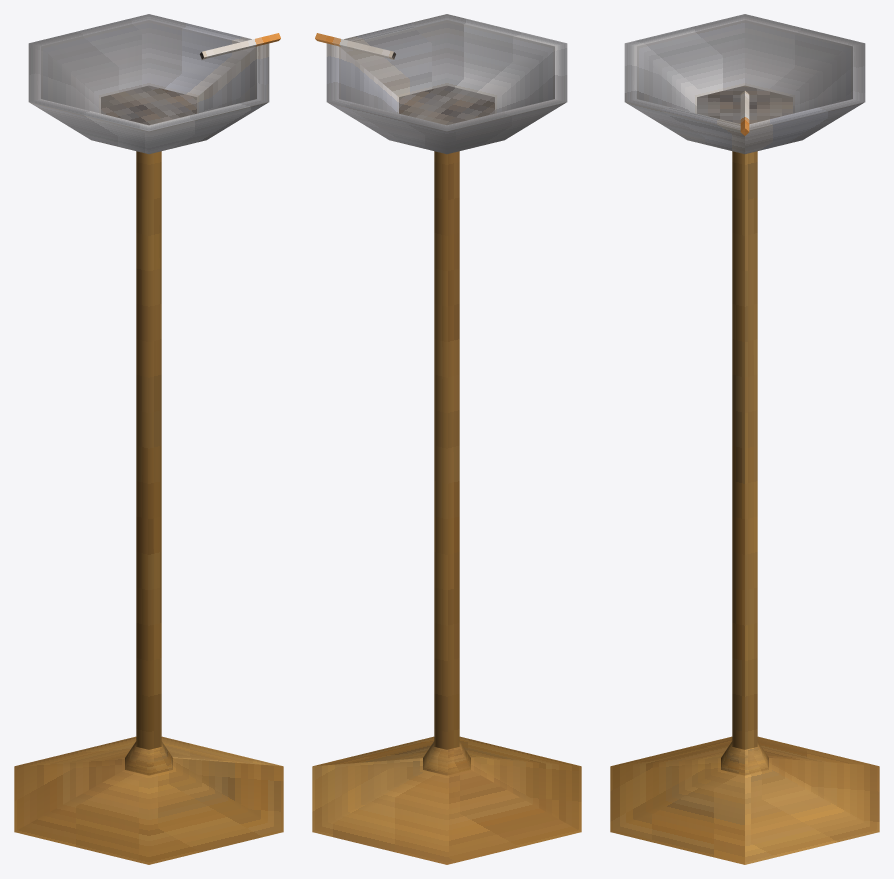
File: standing-ashtray-with-cigarette.glb
3 views of the same model, side by side, from view 1: azimuth 30°, elevation 25°; view 2: azimuth 150°, elevation 25°; view 3: azimuth 270°, elevation 25° (orthographic).
Parts seen in each view (by area): view 1: standing-ashtray-with-cigarette; view 2: standing-ashtray-with-cigarette; view 3: standing-ashtray-with-cigarette.
Boxes of the visible parts, <box> form: standing-ashtray-with-cigarette: <box>14,14,283,864</box>; standing-ashtray-with-cigarette: <box>312,14,581,864</box>; standing-ashtray-with-cigarette: <box>610,14,879,864</box>.
Bounding box in the file's own units: 0.28 × 0.729 × 0.2425.
Materials: 1 (1 with a texture image).
